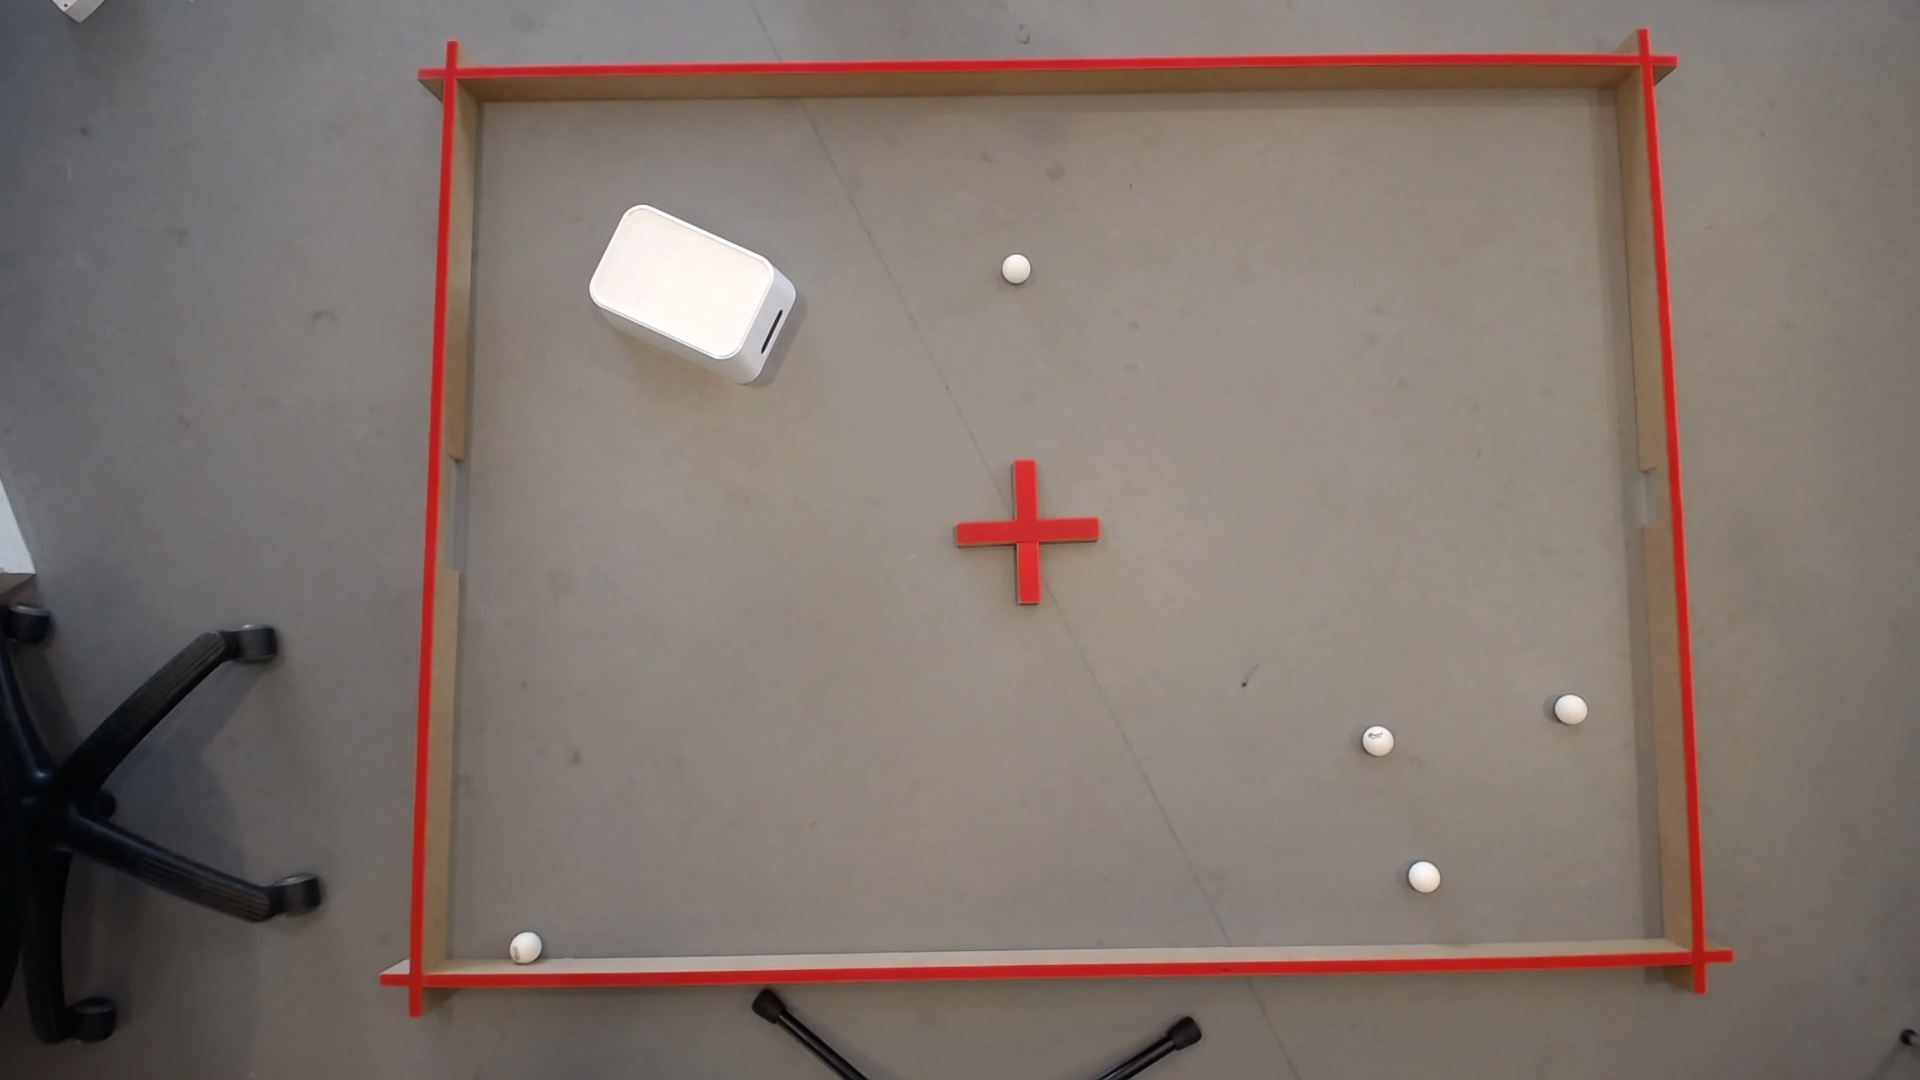balls: (582, 195, 804, 376), (1404, 856, 1444, 891), (1552, 688, 1590, 723), (1360, 720, 1396, 754), (1000, 252, 1030, 277)
car: (509, 926, 542, 959)
